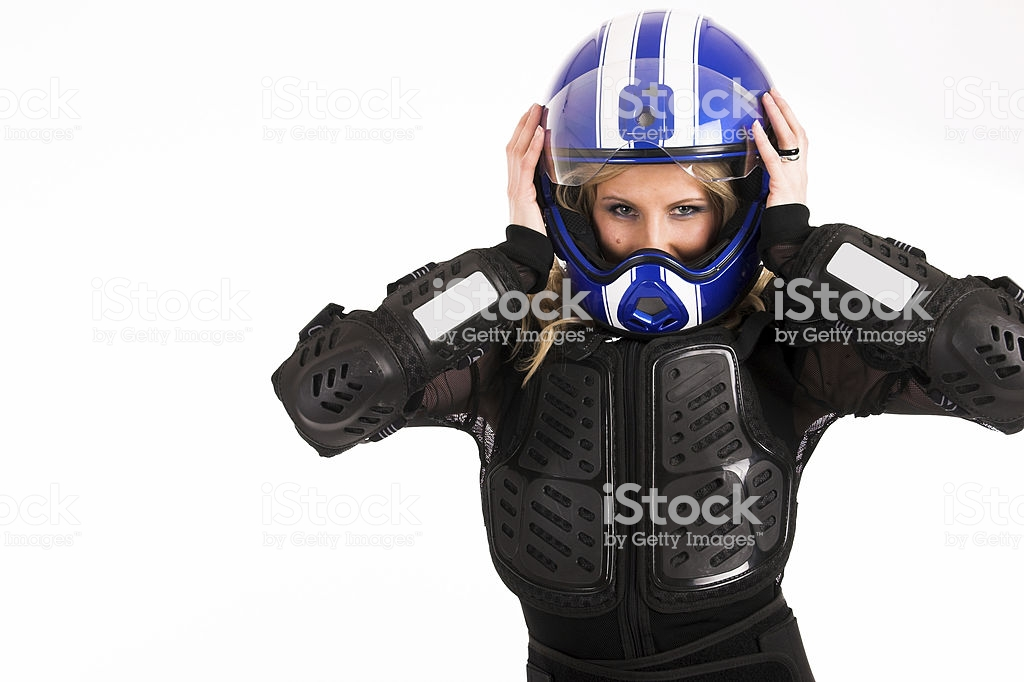helmet: (529, 16, 771, 329)
